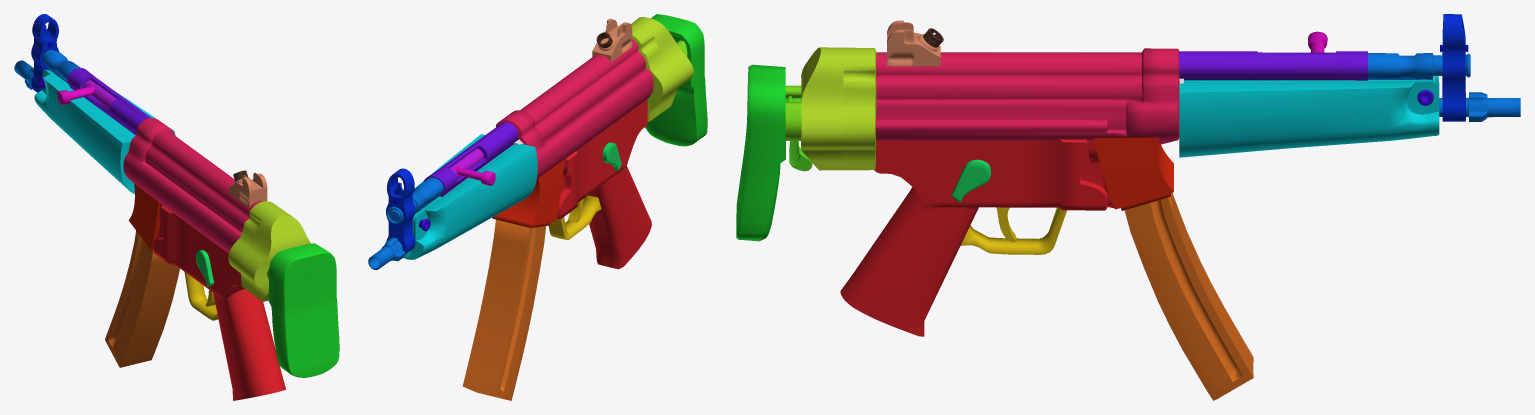
Rendered from Dx01_1_s_mp5_transformF_static_v1.0.2.fbx.
3 views of the same model, side by side, from view 1: azimuth 30°, elevation 25°; view 2: azimuth 150°, elevation 25°; view 3: azimuth 270°, elevation 25° (orthographic). The views are drawn at different scales.
Visible parts, largest first — view 1: dx16_charging_handle_low; view 2: dx16_charging_handle_low; view 3: dx16_charging_handle_low.
Part boxes in pixels (x1=…): dx16_charging_handle_low: x1=14, y1=14, x2=339, y2=400; dx16_charging_handle_low: x1=368, y1=14, x2=707, y2=400; dx16_charging_handle_low: x1=736, y1=14, x2=1520, y2=400.
Size of the model in its own units: 28.86 by 106 by 201.
